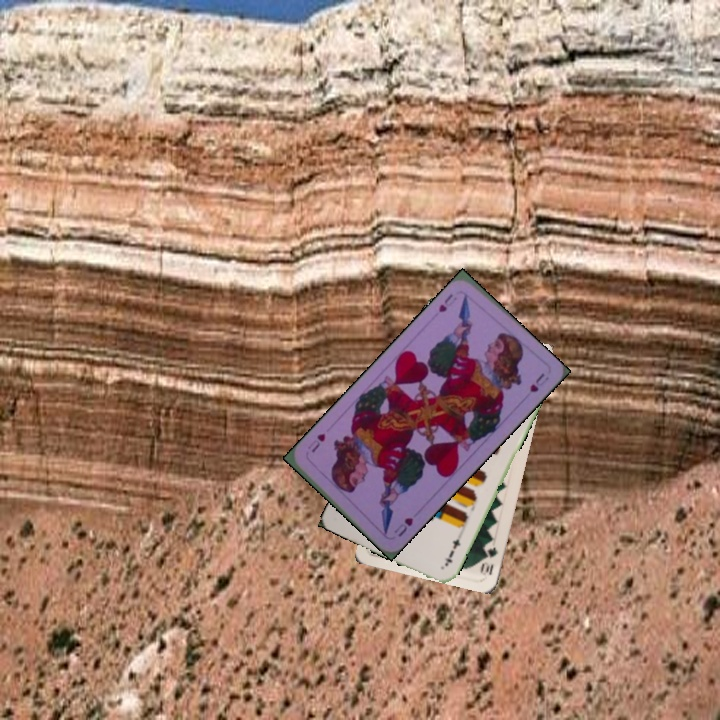E7: (440, 535, 463, 569)
G10: (477, 543, 501, 578)
HU: (390, 513, 416, 539), (434, 290, 458, 315)
